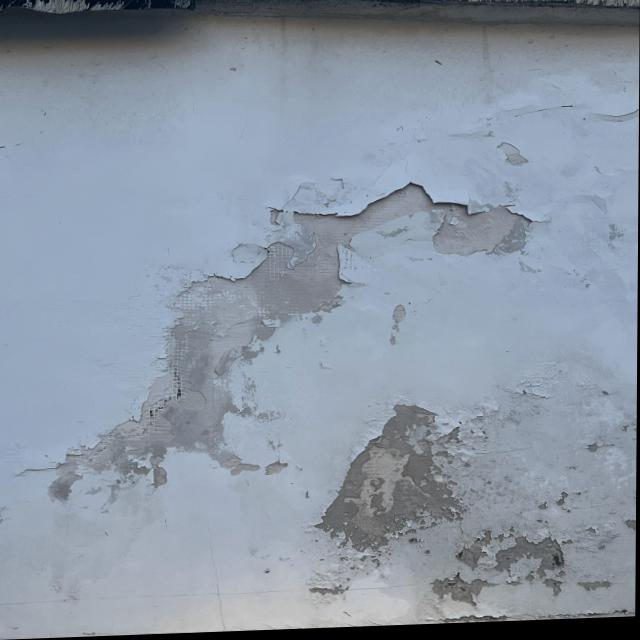crack: (0, 529, 303, 631)
spalling: (3, 169, 577, 530), (309, 385, 633, 628), (481, 136, 533, 175)
